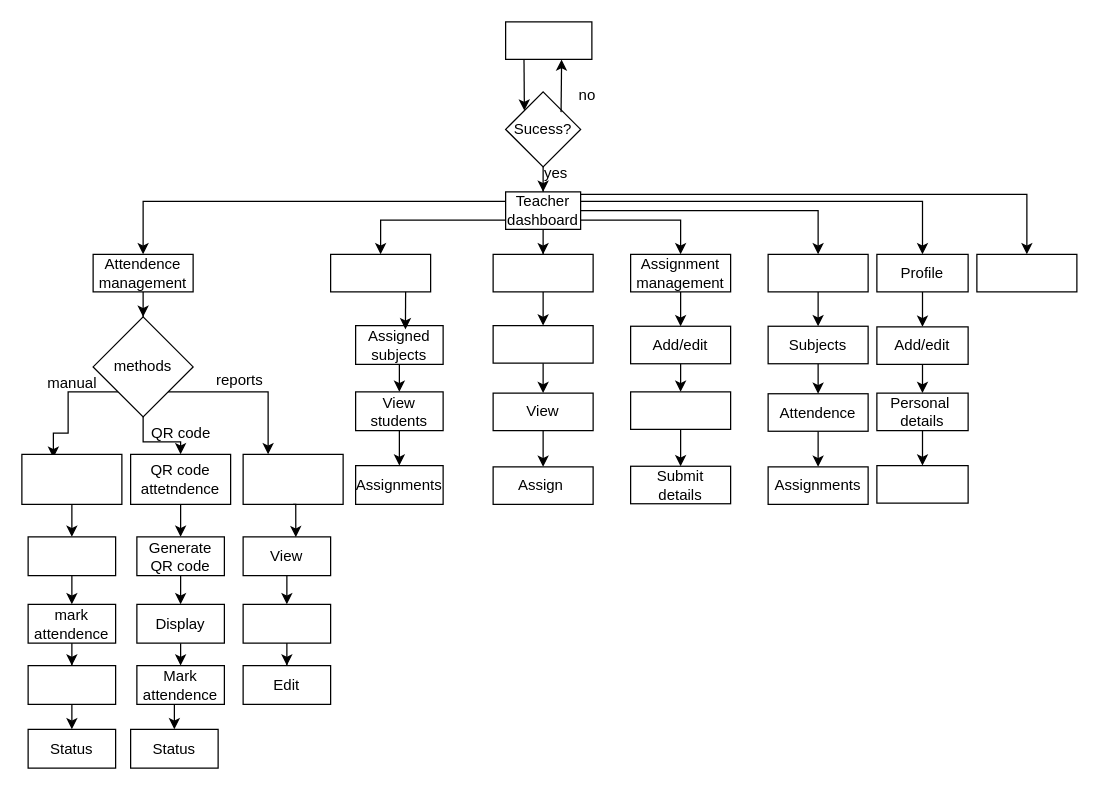
The diagram is 1099 pixels wide and 790 high, and some of its shapes have lost their labels. The box of each missing label's shape, as (x1, y1, x2, y2) in pixels:
Assignments statistics: (629, 391, 731, 429)
Attendence statistics: (242, 453, 343, 504)
Details: (27, 664, 116, 704)
Generate: (242, 603, 331, 643)
Load student list: (27, 536, 116, 576)
Logout: (976, 253, 1077, 292)
manual attendence: (21, 453, 122, 504)
Materials management: (492, 253, 593, 292)
My class: (329, 253, 431, 292)
Students records: (767, 253, 868, 292)
Teacher login: (504, 21, 592, 59)
Upload: (492, 324, 593, 363)
Upload photo: (876, 464, 968, 503)
